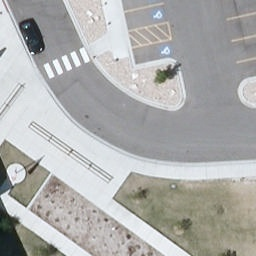car: (17, 19, 47, 57)
